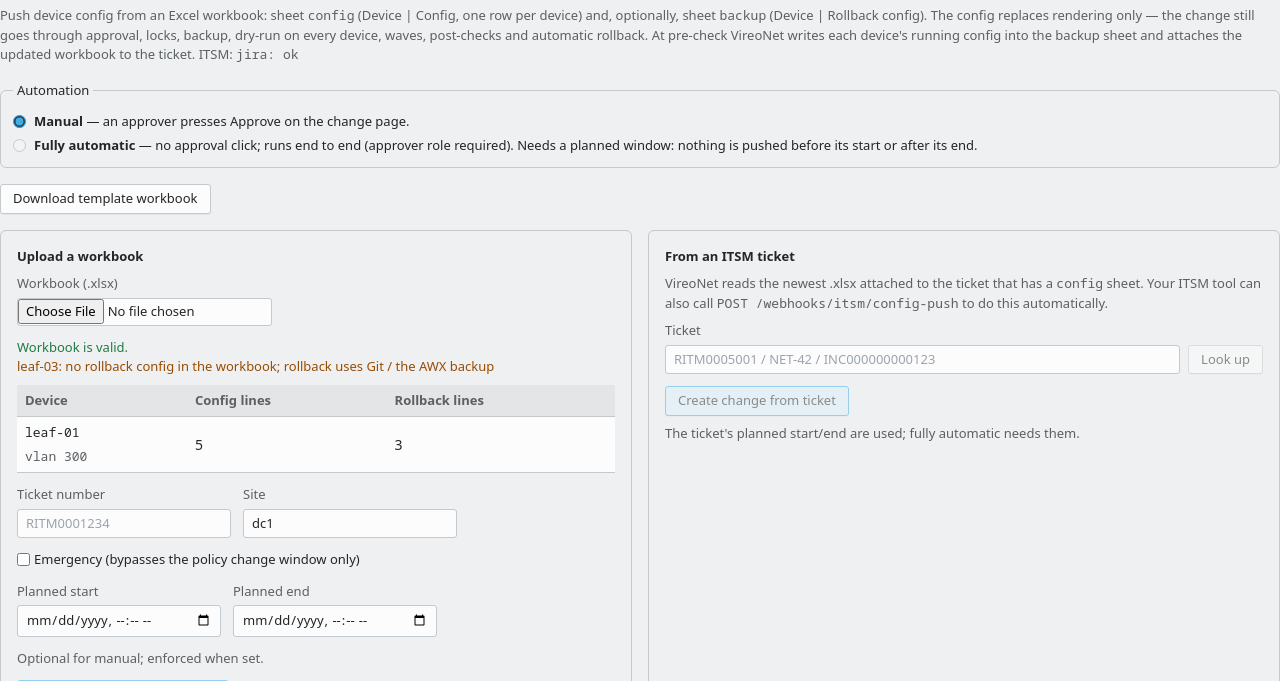
Test case: ConfigPush › previews an uploaded workbook and creates the change
This screenshot has width=1280, height=681.
Earlier steps of the test are not shown.
Expected: the text "jira: ok" is shown, [236,45,298,63]
Expected: the text "Workbook is valid." is shown, [17,338,128,356]
In the field labelled "Ticket number": (124, 523) [17,508,231,538], type "RITM9"
(page scrolled)
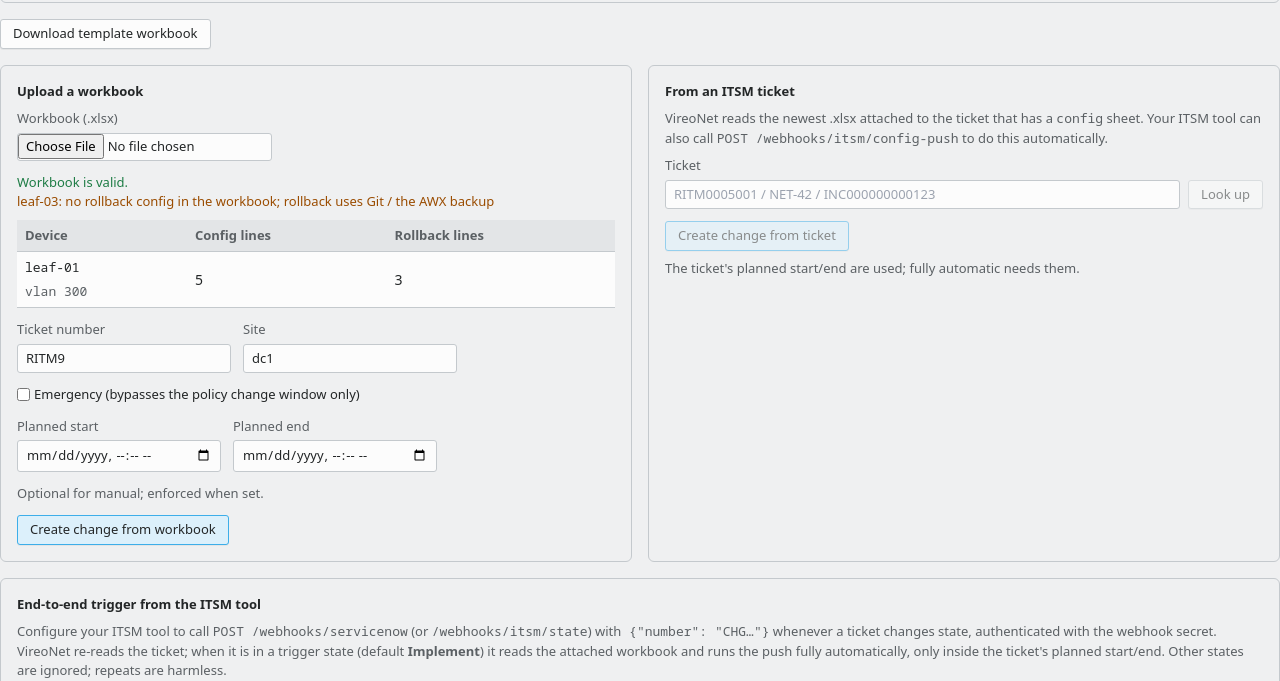
Click the button "Create change from workbook": (123, 530) [17,515,229,544]
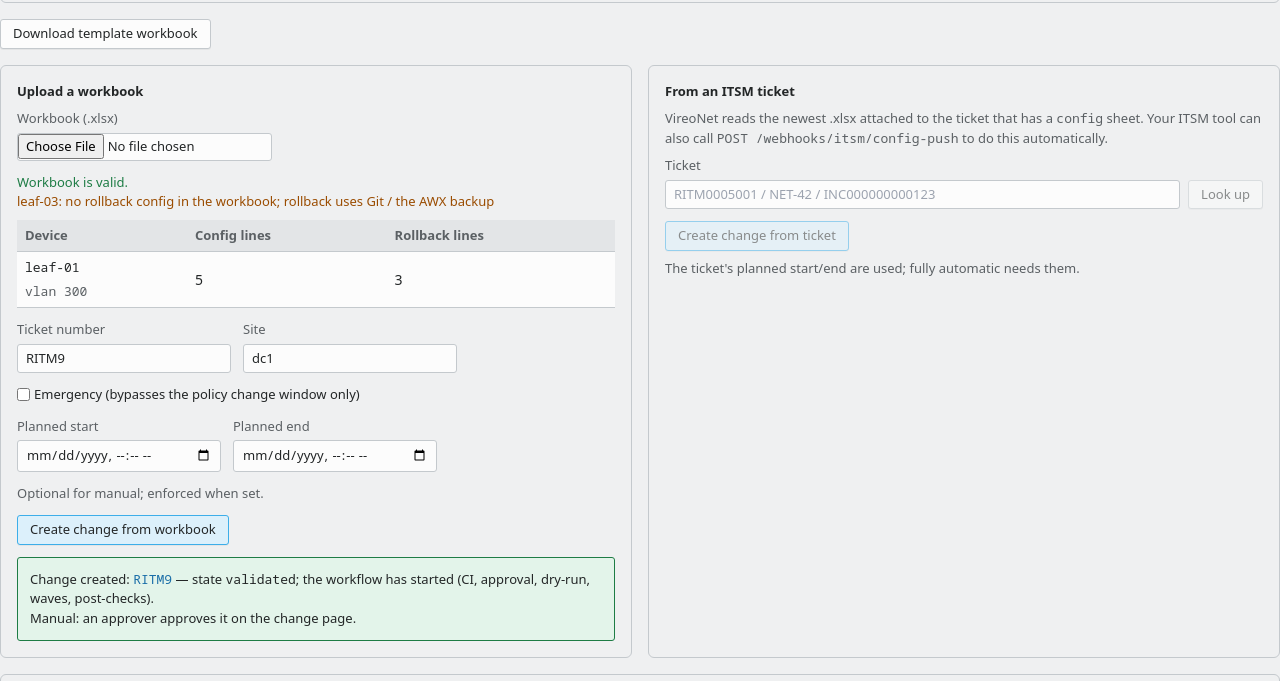
Result: the text "the workflow has started" is shown at [30,570,590,607]
